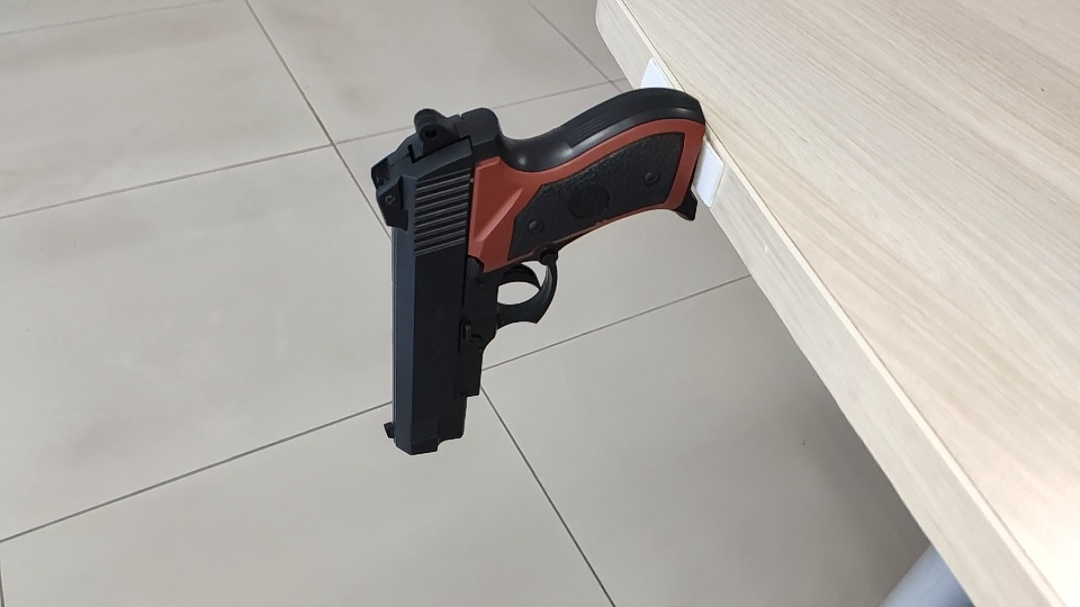gun: (370, 81, 713, 453)
